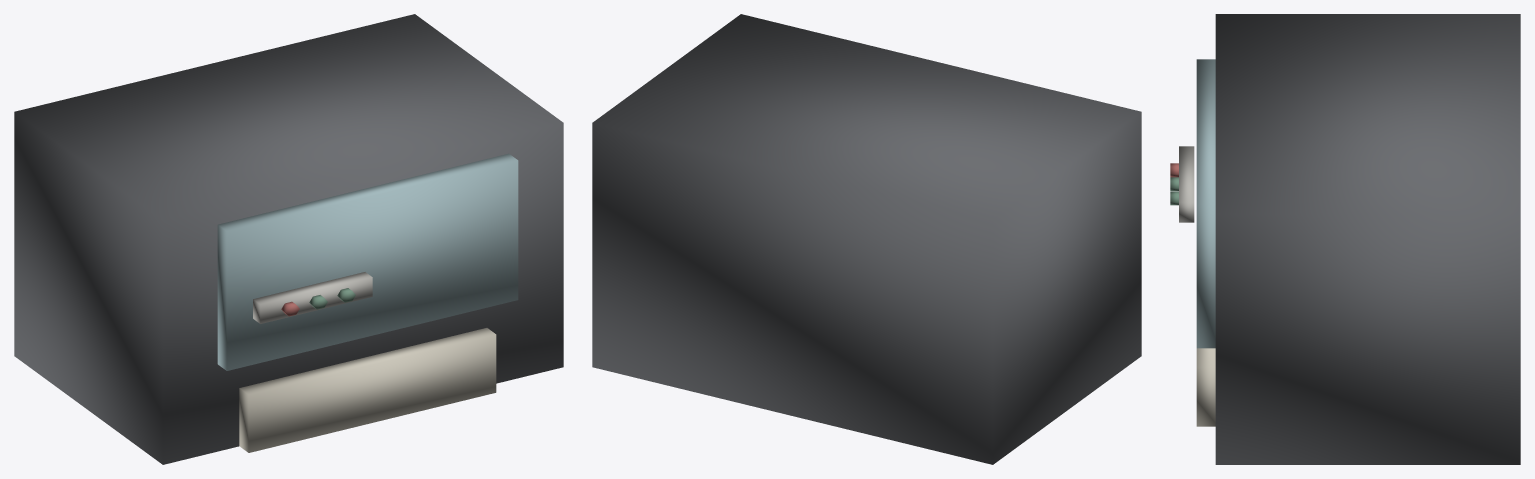
File: terminal_pedestal__squat.glb
The picture shows the model from 3 angles, left to right: view 1: azimuth 30°, elevation 25°; view 2: azimuth 150°, elevation 25°; view 3: azimuth 270°, elevation 25°; orthographic projection. The views are drawn at different scales.
Visible parts, largest first — view 1: world; view 2: world; view 3: world.
Boxes of the visible parts, x1,y1,x2,y2 form: world: [14, 14, 563, 464]; world: [592, 14, 1141, 464]; world: [1170, 14, 1520, 464].
Bounding box in the file's own units: 0.605 × 0.3528 × 0.4466.
